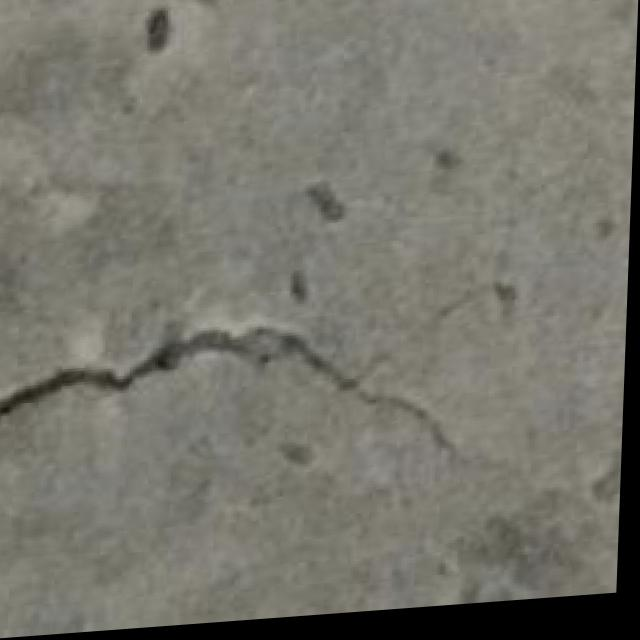Crack: (0, 297, 468, 483)
